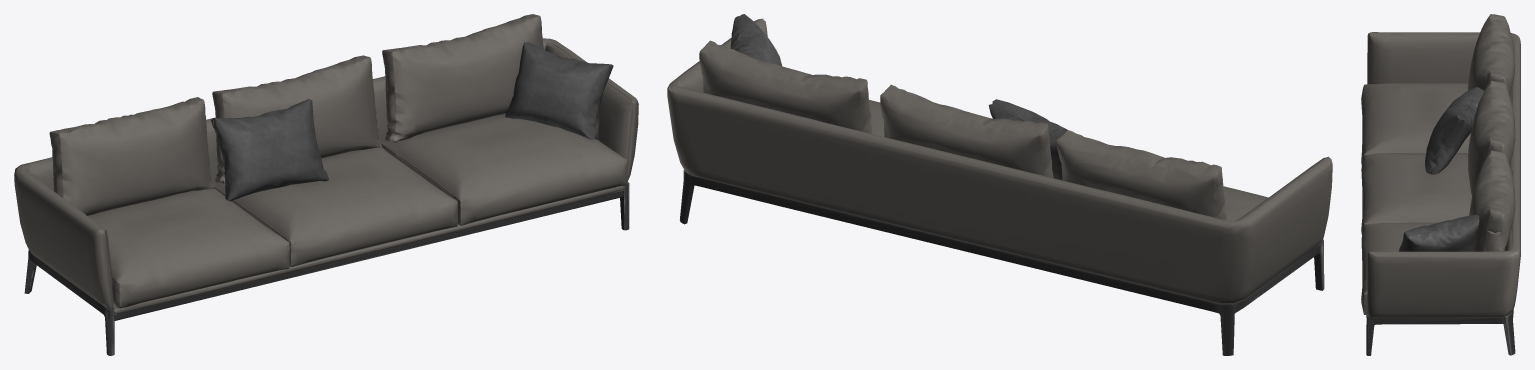
The model's file is raw_model.obj.
The picture shows the model from 3 angles, left to right: view 1: azimuth 30°, elevation 25°; view 2: azimuth 150°, elevation 25°; view 3: azimuth 270°, elevation 25°; orthographic projection. The views are drawn at different scales.
Parts seen in each view (by area): view 1: solid_002, solid_003, solid_001; view 2: solid_002, solid_001, solid_003; view 3: solid_002, solid_003, solid_001.
Part boxes in pixels (<box>): solid_002: <box>14,14,638,313</box>; solid_003: <box>211,42,613,201</box>; solid_001: <box>24,182,629,355</box>; solid_002: <box>667,18,1332,302</box>; solid_001: <box>680,170,1324,355</box>; solid_003: <box>730,14,1067,180</box>; solid_002: <box>1361,14,1520,317</box>; solid_003: <box>1399,87,1484,251</box>; solid_001: <box>1366,309,1515,355</box>.
Size of the model in its own units: 2.69 by 0.7708 by 0.807.
1 material, 1 textured.
